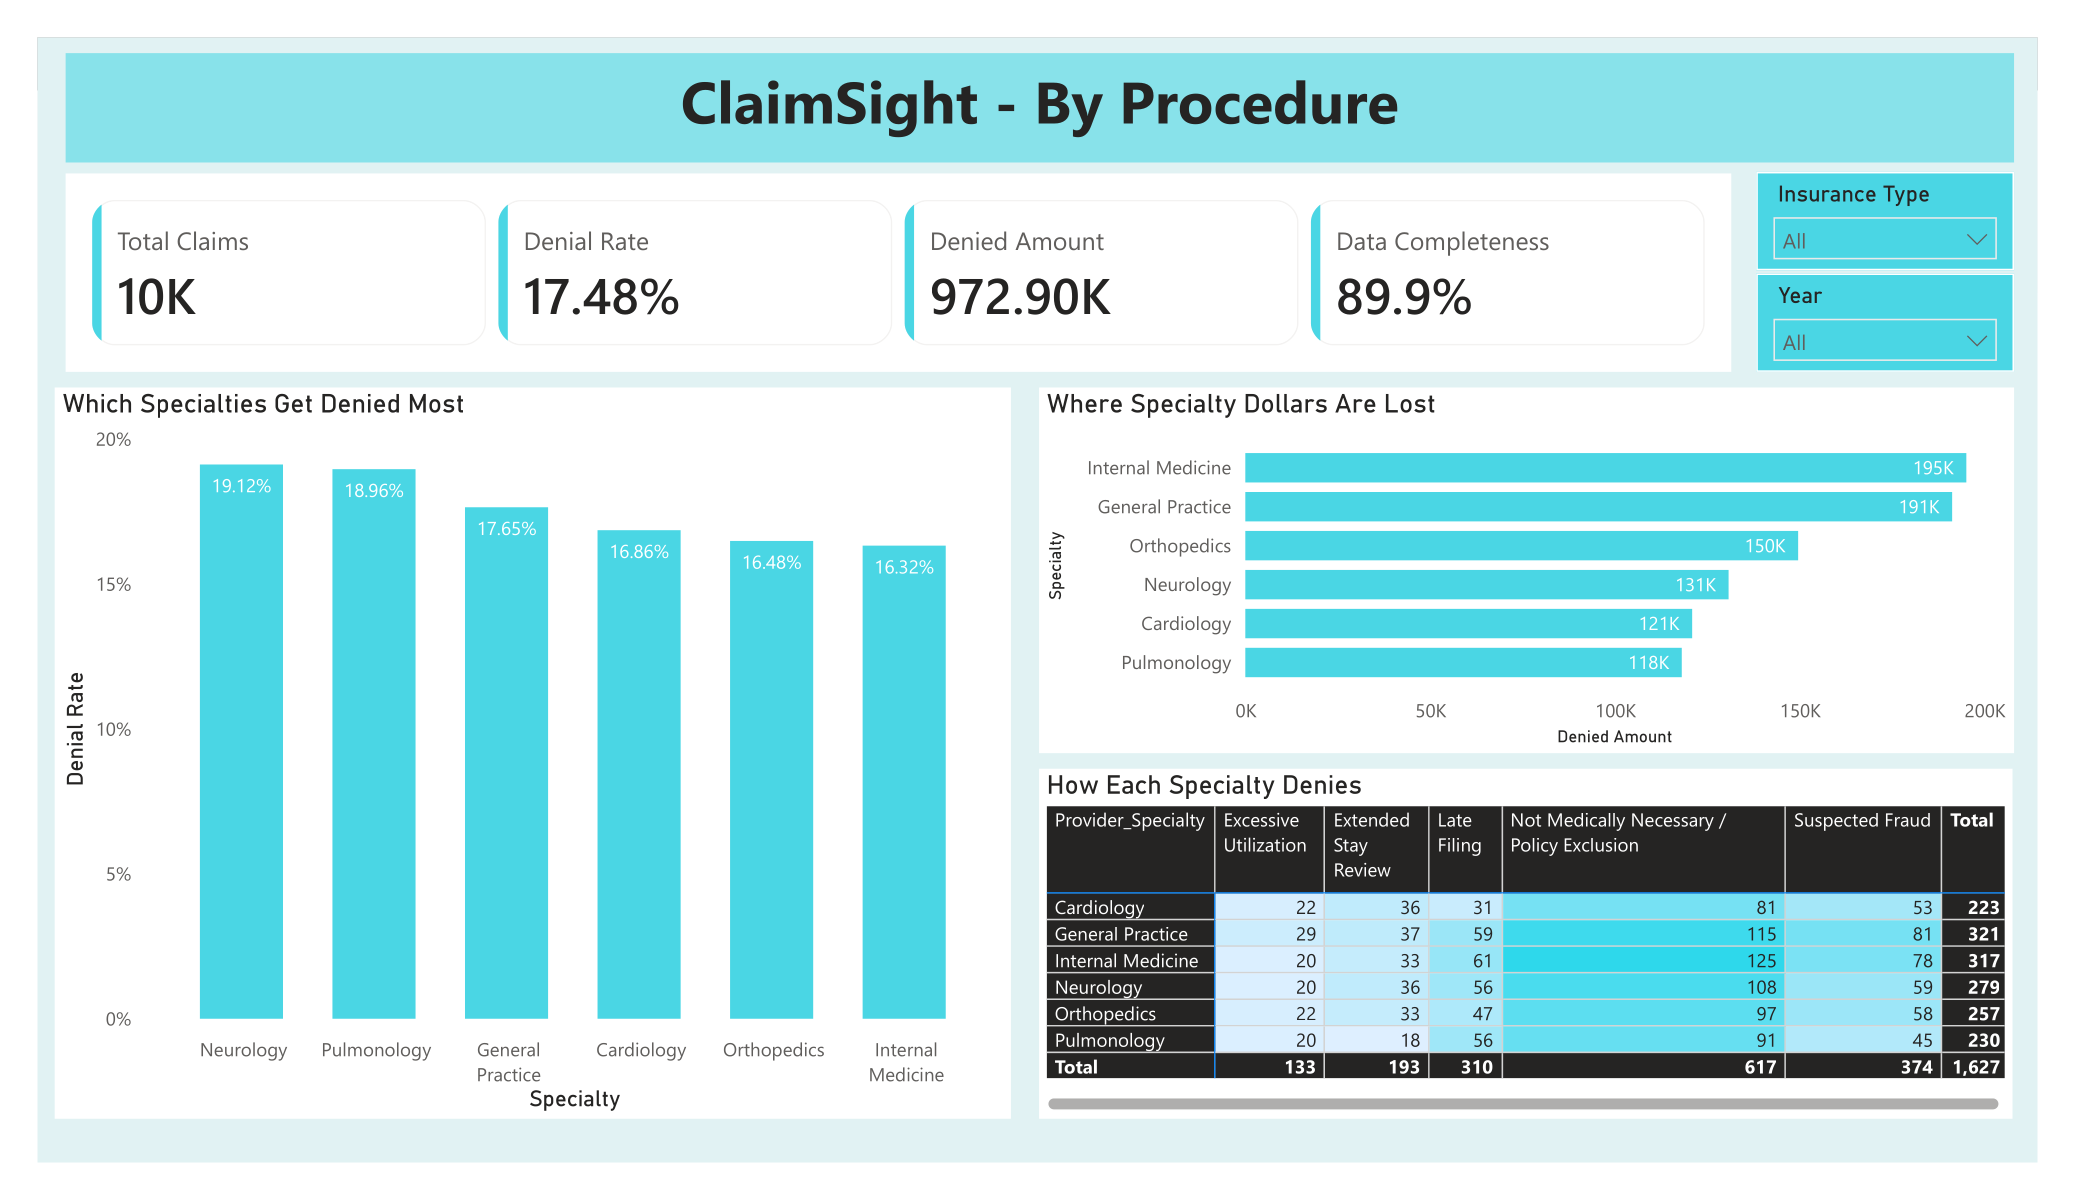

This screenshot's page, from the dashboard's own definition file:
{"tool":"powerbi","page":{"name":"By Procedure","canvas":[1280,720],"ordinal":2},"visuals":[{"type":"clusteredColumnChart","title":"Which Specialties Get Denied Most","fields":{"Category":["claims.Provider_Specialty"],"Y":["claims.Denial Rate"]},"box":[11,223.7,612,468],"z":0},{"type":"slicer","fields":{"Values":["claims.Insurance_Type"]},"box":[1100.2,86.2,164.9,62.8],"z":1000},{"type":"slicer","fields":{"Values":["DateTable.Year"]},"box":[1100.2,151.1,164.9,62.8],"z":2000},{"type":"clusteredBarChart","title":"Where Specialty Dollars Are Lost","fields":{"Category":["claims.Provider_Specialty"],"Y":["Sum(claims.Denied_Amount)"]},"box":[641,223.7,624.4,234],"z":3000},{"type":"textbox","box":[17.5,9.7,1247.9,70],"z":4000},{"type":"cardVisual","fields":{"Data":["claims.Total Claims","claims.Denial Rate","Sum(claims.Denied_Amount)","claims.Data Completeness"]},"box":[17.5,86.6,1066,127.4],"z":5000},{"type":"pivotTable","title":"How Each Specialty Denies","fields":{"Columns":["claims.Denial_Reason"],"Rows":["claims.Provider_Specialty"],"Values":["claims.Total Claims"]},"box":[641,467.8,623.5,223.7],"z":6000}]}

Visuals, with their boxes on the page's 1280x720 design canvas (x1, y1, x2, y2). These are canvas units, not pixel positions in the 2075x1200 screenshot, which may show the page scaled, cropped or inside an application window:
"Which Specialties Get Denied Most" clusteredColumnChart: x1=11 y1=224 x2=623 y2=692
slicer - claims.Insurance_Type: x1=1100 y1=86 x2=1265 y2=149
slicer - DateTable.Year: x1=1100 y1=151 x2=1265 y2=214
"Where Specialty Dollars Are Lost" clusteredBarChart: x1=641 y1=224 x2=1265 y2=458
textbox: x1=18 y1=10 x2=1265 y2=80
cardVisual - claims.Total Claims x claims.Denial Rate: x1=18 y1=87 x2=1084 y2=214
"How Each Specialty Denies" pivotTable: x1=641 y1=468 x2=1264 y2=692
